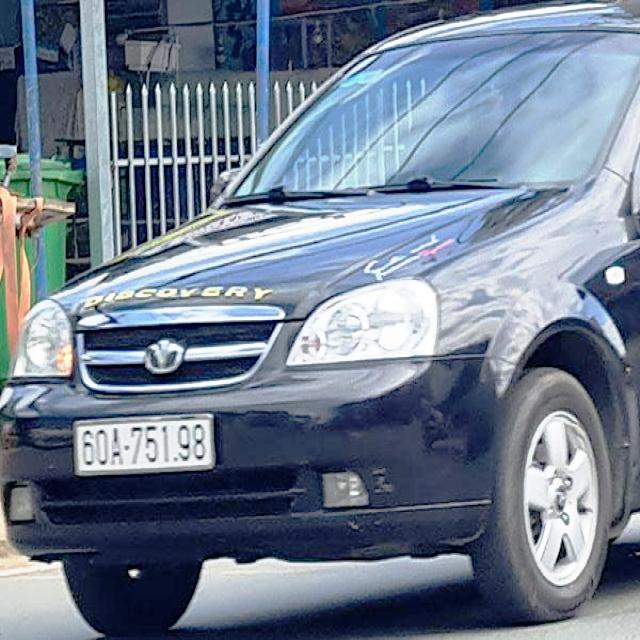license_plate: (76, 414, 214, 472)
